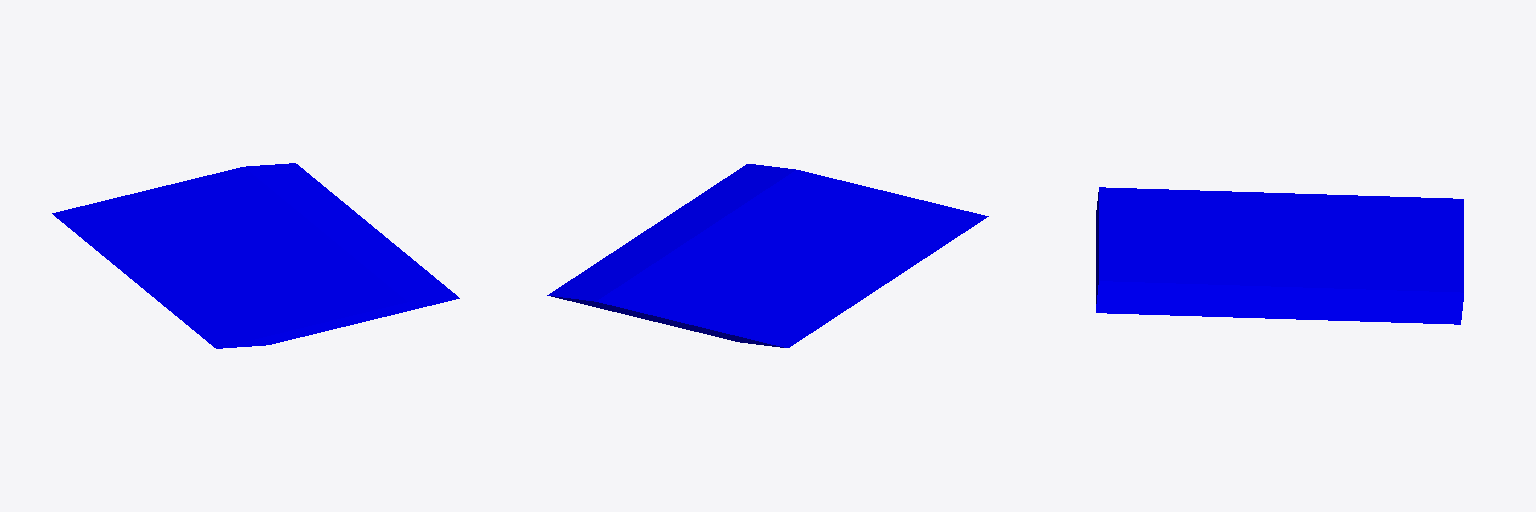
File: planes_1-dynamic - BLK2GO-3630355-Scan 080 2.obj
The picture shows the model from 3 angles: view 1: azimuth 30°, elevation 25°; view 2: azimuth 150°, elevation 25°; view 3: azimuth 270°, elevation 25°; orthographic projection.
Parts seen in each view (by area): view 1: 1-dynamic_-_BLK2GO-[number redacted]-Scan_080_2_0; view 2: 1-dynamic_-_BLK2GO-[number redacted]-Scan_080_2_0; view 3: 1-dynamic_-_BLK2GO-[number redacted]-Scan_080_2_0.
Part boxes in pixels (left/top/right/bottom): 1-dynamic_-_BLK2GO-[number redacted]-Scan_080_2_0: left=52, top=163, right=459, bottom=348; 1-dynamic_-_BLK2GO-[number redacted]-Scan_080_2_0: left=547, top=164, right=988, bottom=347; 1-dynamic_-_BLK2GO-[number redacted]-Scan_080_2_0: left=1096, top=187, right=1463, bottom=324.
Size of the model in its own units: 1.37 by 0.0512 by 1.68.